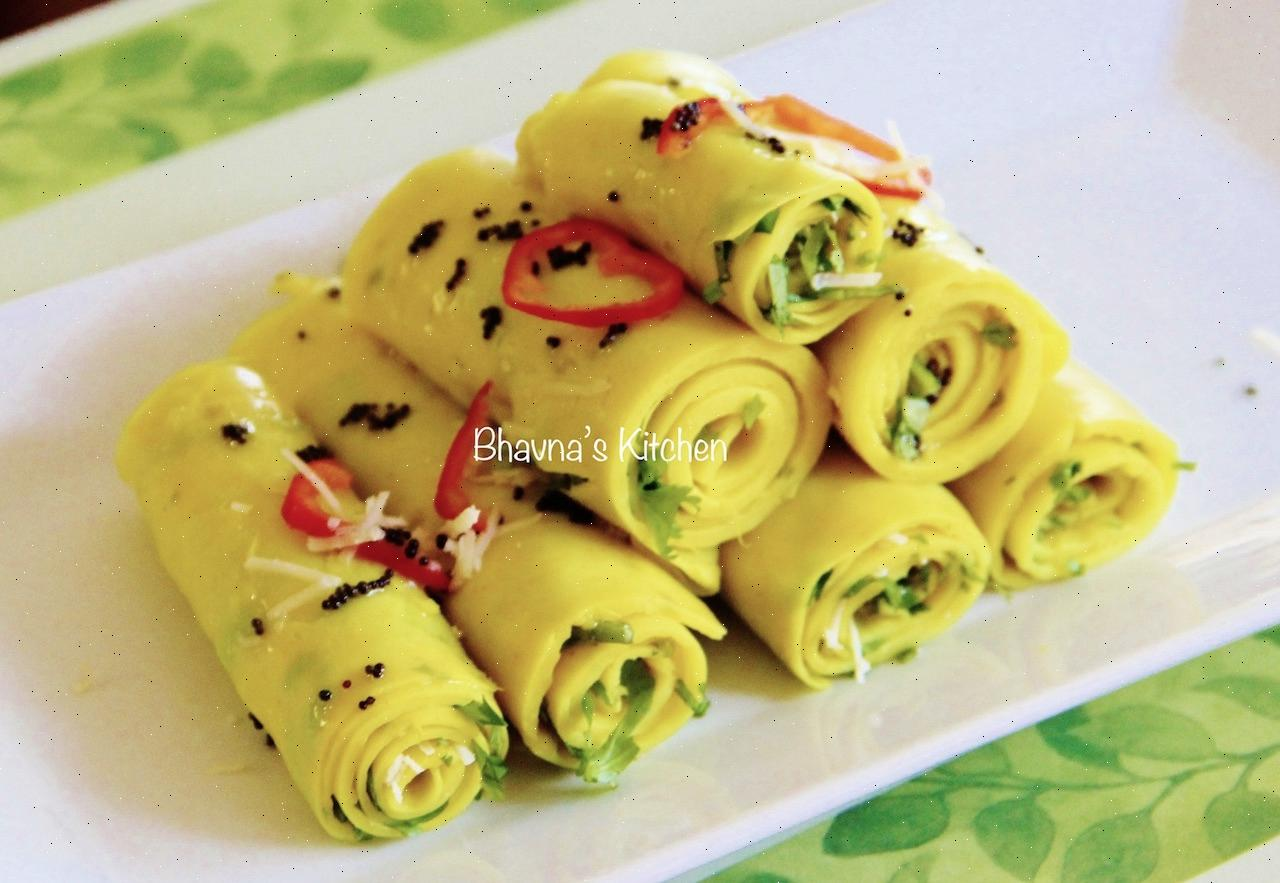khandvi: (100, 63, 1270, 850)
